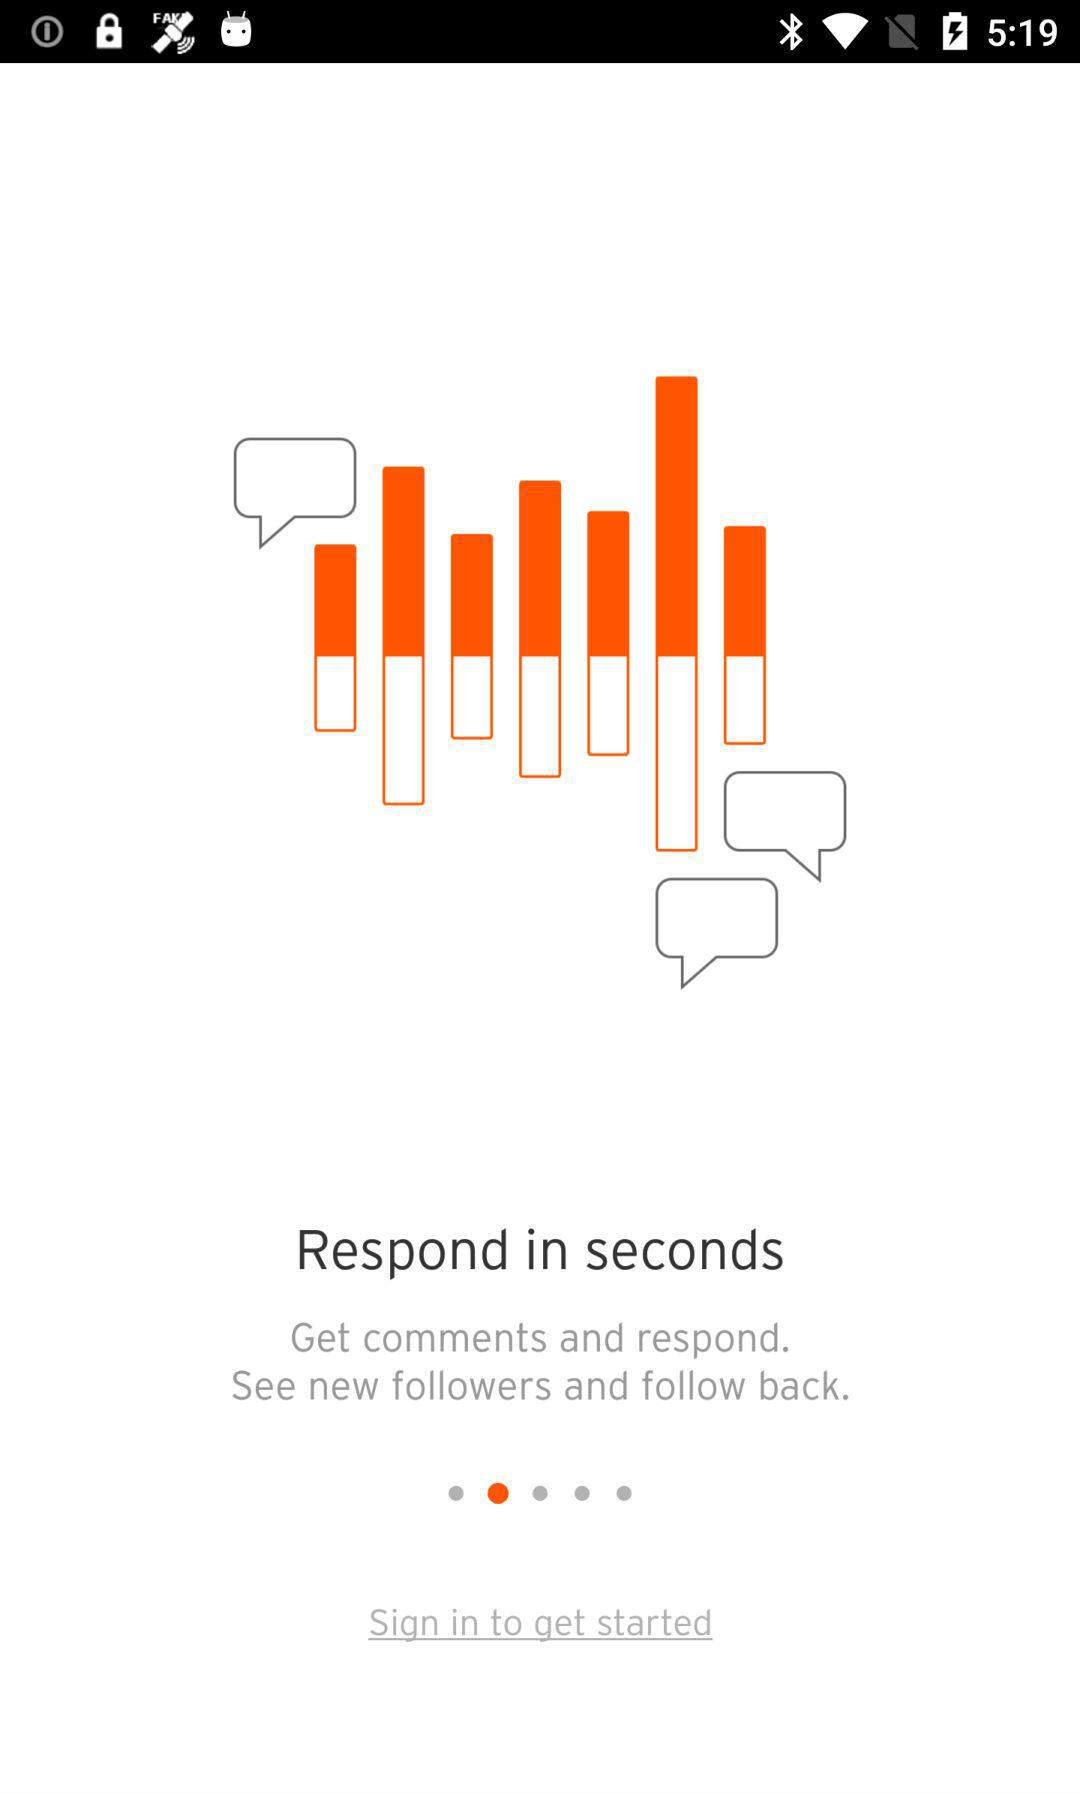Image: (232, 375, 849, 989)
PageIndicator: (448, 1481, 633, 1504)
Text: (233, 1322, 849, 1401), (299, 1228, 783, 1281)
TextButton: (368, 1608, 714, 1643)
UpperTaskBar: (1, 1, 1080, 64)
